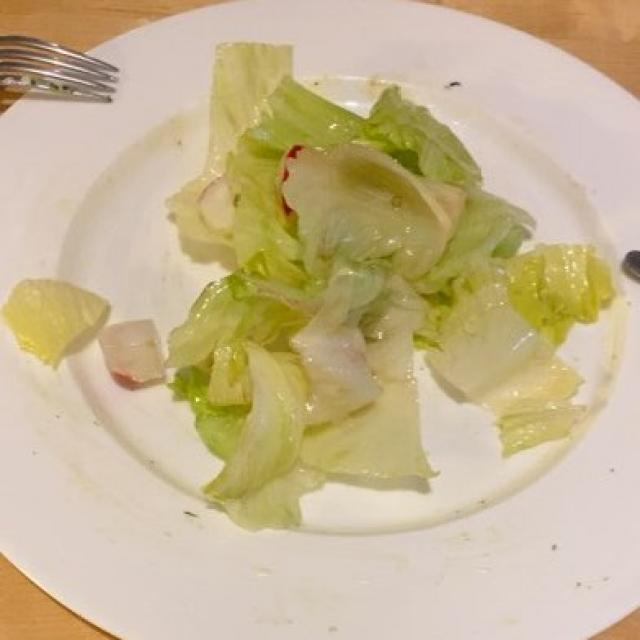salad: (20, 52, 615, 548)
